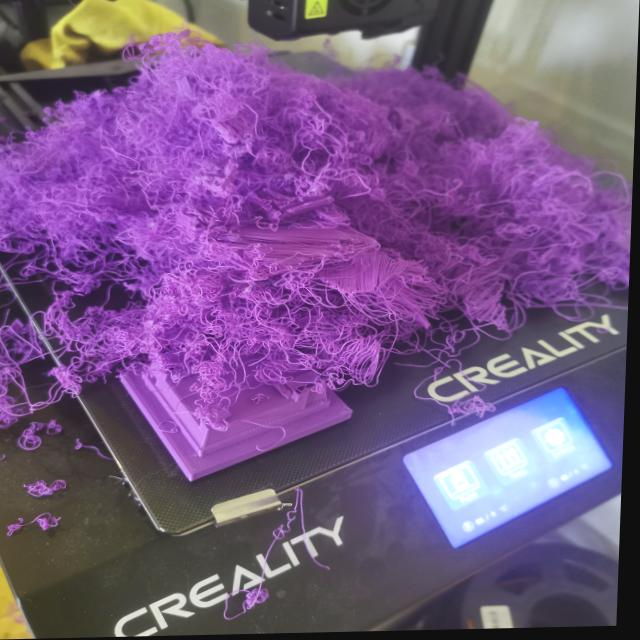spaghetti: (0, 26, 639, 453), (220, 490, 316, 622), (0, 514, 79, 532), (25, 478, 83, 501)
